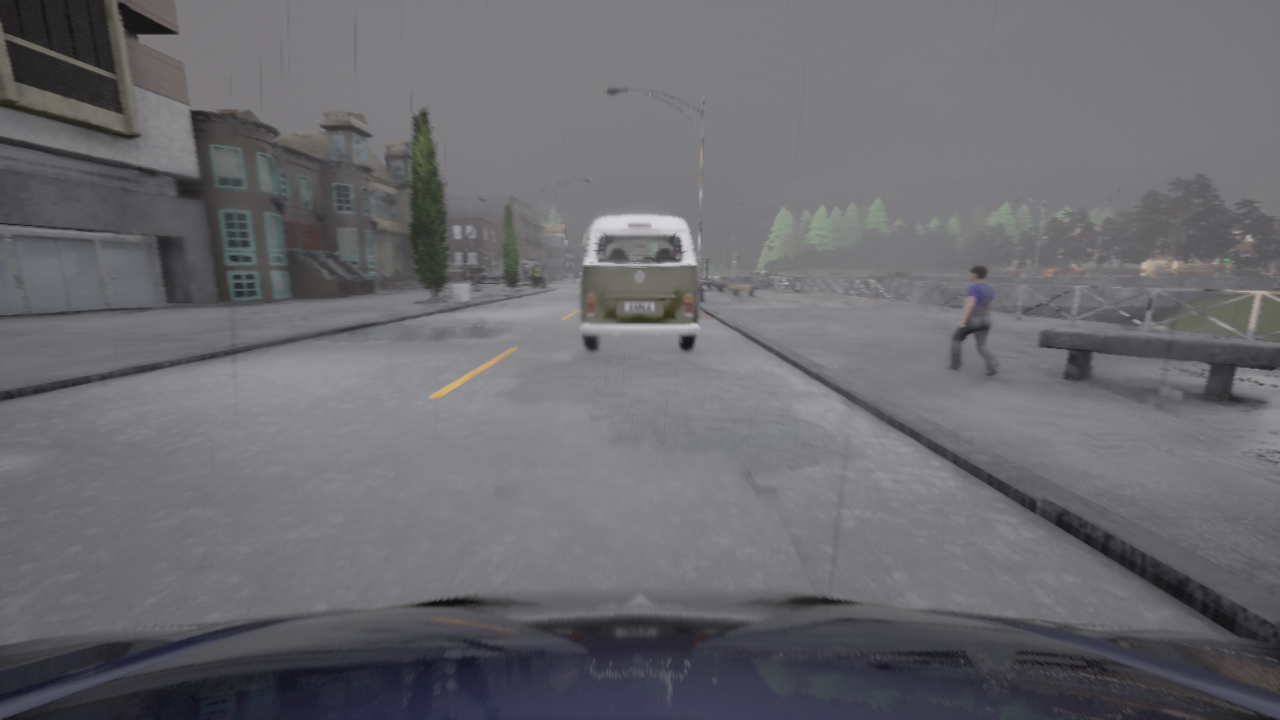cyclist: (0, 588, 1279, 719), (579, 215, 700, 350), (462, 268, 507, 285)
pedestrian: (946, 265, 999, 376)
